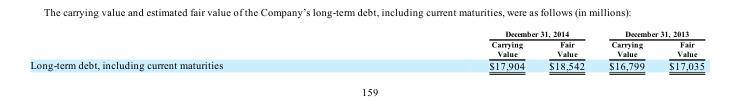table: (29, 29, 703, 71)
table column: (29, 29, 355, 71), (355, 29, 536, 71), (536, 29, 596, 71), (596, 29, 656, 71), (656, 29, 703, 71)
table column header: (29, 29, 703, 58)
table row: (29, 38, 703, 58), (29, 58, 703, 71), (29, 29, 703, 38)
table spanning cell: (355, 29, 596, 38), (596, 29, 703, 38)
